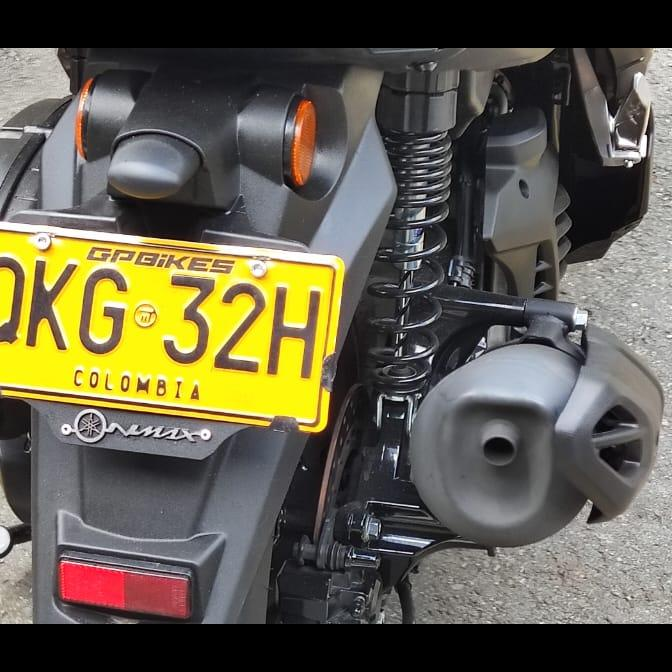plates: (0, 225, 341, 434)
